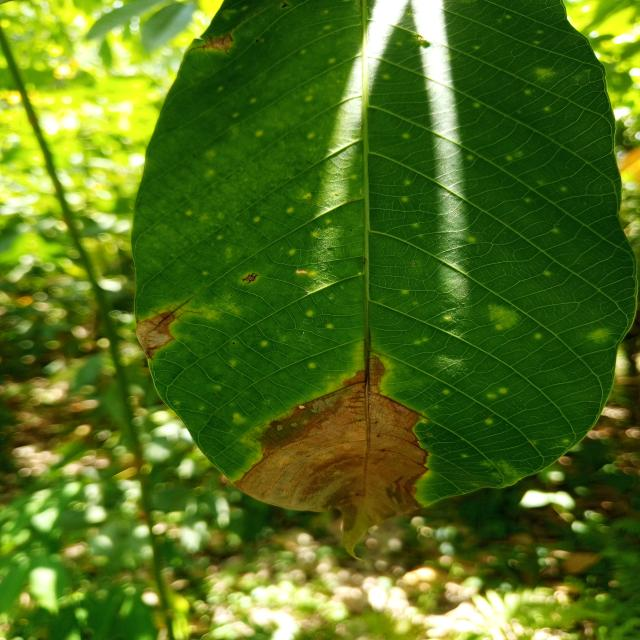Corynespora: (157, 302, 204, 326), (242, 273, 258, 284)
Leaf-Blight: (233, 355, 428, 560), (136, 312, 175, 358), (205, 34, 231, 51)
